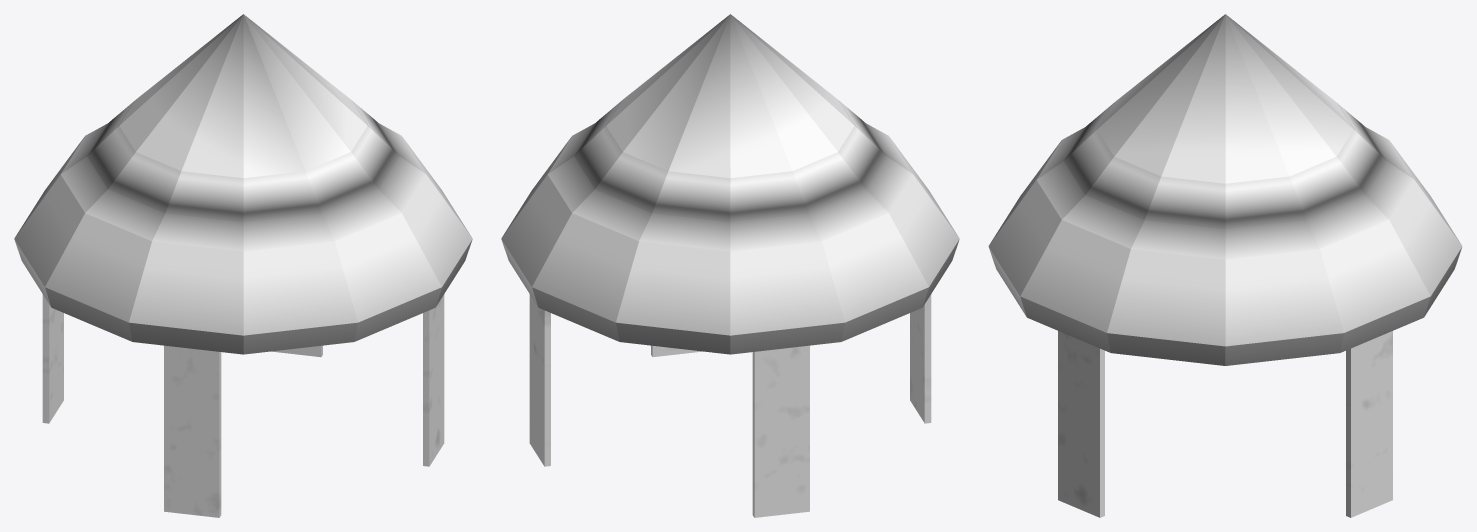
Rendered from HutD.fbx.
The picture shows the model from 3 angles, left to right: view 1: azimuth 30°, elevation 25°; view 2: azimuth 150°, elevation 25°; view 3: azimuth 270°, elevation 25°; orthographic projection. The views are drawn at different scales.
Visible parts, largest first — view 1: HutCover; view 2: HutCover; view 3: HutCover.
Part boxes in pixels (x1,y1,x2,y2): HutCover: [14, 14, 472, 517]; HutCover: [501, 14, 959, 517]; HutCover: [988, 14, 1462, 517].
Bounding box in the file's own units: 1077 × 1086 × 1077.
